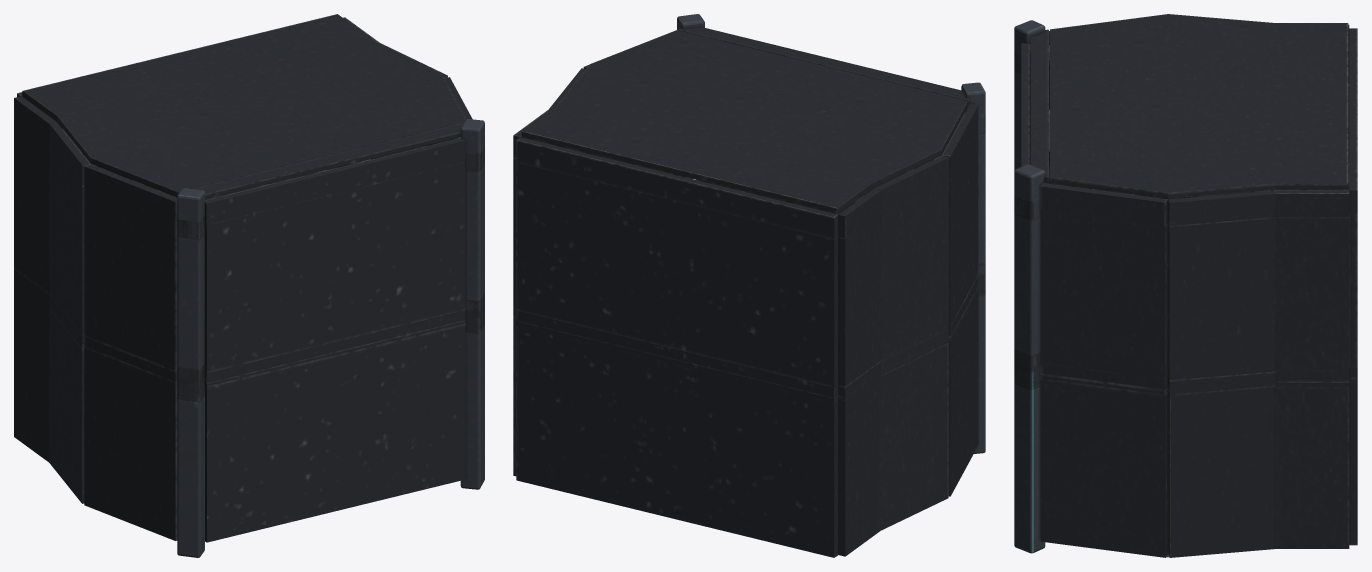
Rendered from cockpit_titan.gltf.
3 renders of one model, left to right at view 1: azimuth 30°, elevation 25°; view 2: azimuth 150°, elevation 25°; view 3: azimuth 270°, elevation 25°, orthographic. The views are drawn at different scales.
Visible parts, largest first — view 1: pod_cabin, INNER_upper_2_cabin, INNER_lower_1_cabin; view 2: pod_cabin, INNER_upper_2_cabin; view 3: pod_cabin, INNER_upper_2_cabin.
Boxes of the visible parts, box(x1,y1,x2,y2) form: pod_cabin: box(14, 14, 484, 557); INNER_upper_2_cabin: box(178, 122, 465, 383); INNER_lower_1_cabin: box(205, 321, 465, 542); pod_cabin: box(513, 14, 985, 557); INNER_upper_2_cabin: box(678, 27, 969, 183); pod_cabin: box(1014, 14, 1357, 557); INNER_upper_2_cabin: box(1021, 29, 1093, 189).
Bounding box in the file's own units: 2.08 × 1.96 × 1.61.
Materials: 9 (8 with a texture image).
